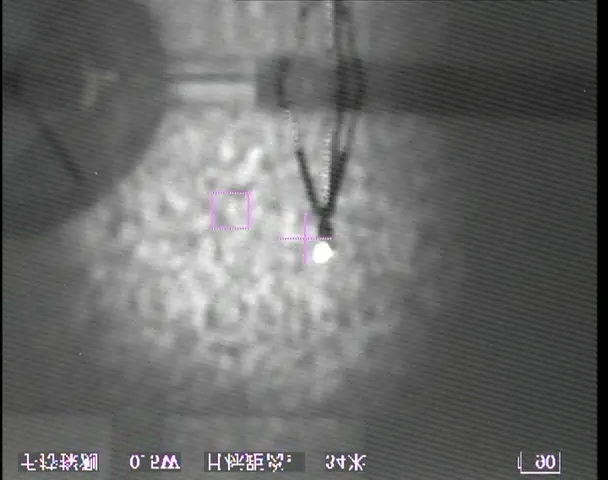my: (309, 242, 335, 266)
